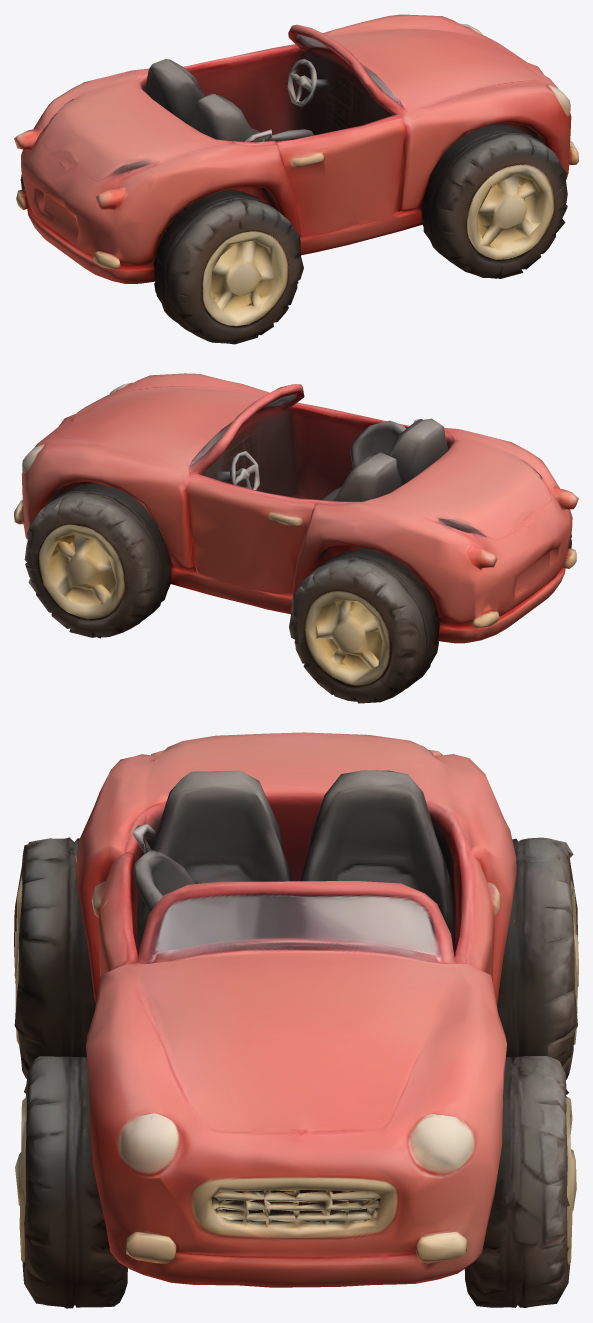
File: pixel-racer-toy-car-v1.glb
3 renders of one model, top to bottom at view 1: azimuth 30°, elevation 25°; view 2: azimuth 150°, elevation 25°; view 3: azimuth 270°, elevation 25°, orthographic. The views are drawn at different scales.
Parts seen in each view (by area): view 1: tripo_node_11ef2936-82e4-41f1-a74c-cabd9060bb49; view 2: tripo_node_11ef2936-82e4-41f1-a74c-cabd9060bb49; view 3: tripo_node_11ef2936-82e4-41f1-a74c-cabd9060bb49.
Part boxes in pixels (x1=…): tripo_node_11ef2936-82e4-41f1-a74c-cabd9060bb49: x1=14, y1=14, x2=578, y2=344; tripo_node_11ef2936-82e4-41f1-a74c-cabd9060bb49: x1=14, y1=373, x2=578, y2=703; tripo_node_11ef2936-82e4-41f1-a74c-cabd9060bb49: x1=14, y1=732, x2=578, y2=1308.
Size of the model in its own units: 1 by 0.3991 by 0.6023.
Materials: 1 (1 with a texture image).
